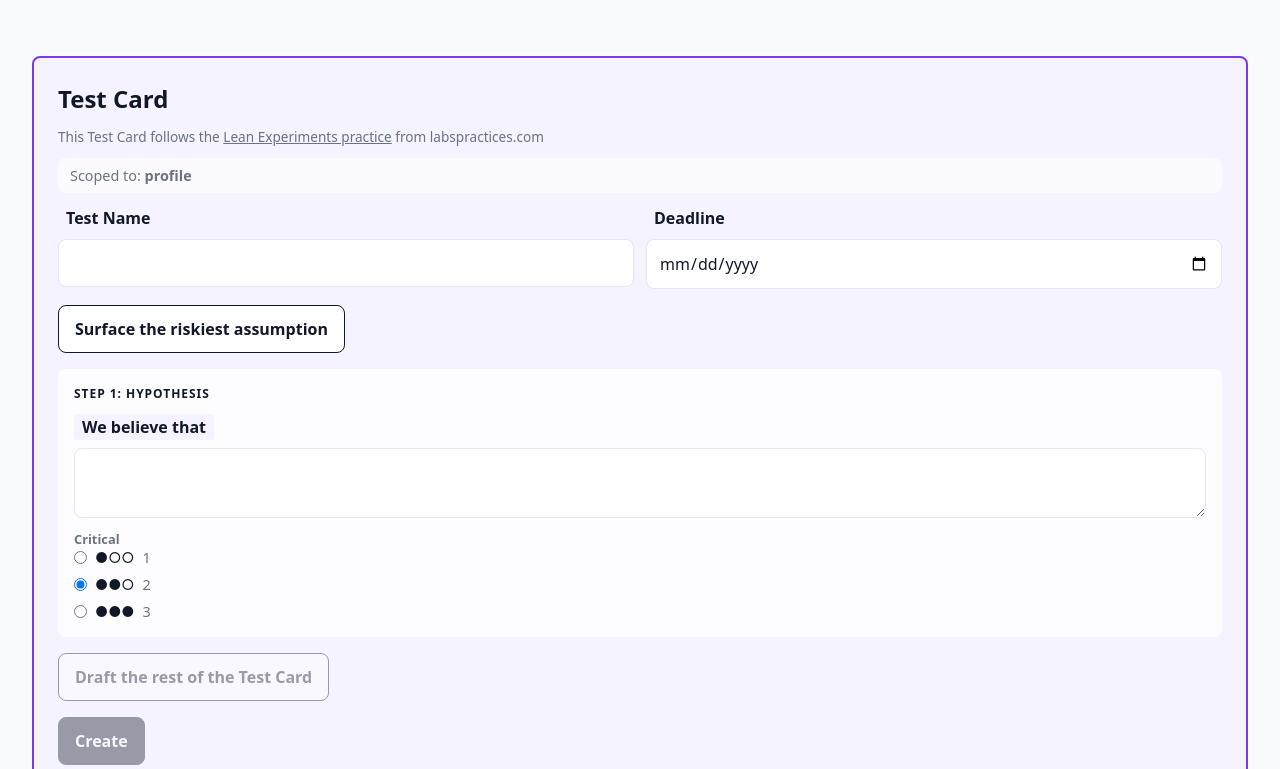
Test: CreateExperimentForm (Test Card) › shows an error and preserves user input when Surface is unavailable, allowing retry
Step 1. Type "manual draft" into the text box labelled "We believe that" → (640, 483), box [74, 448, 1206, 518]
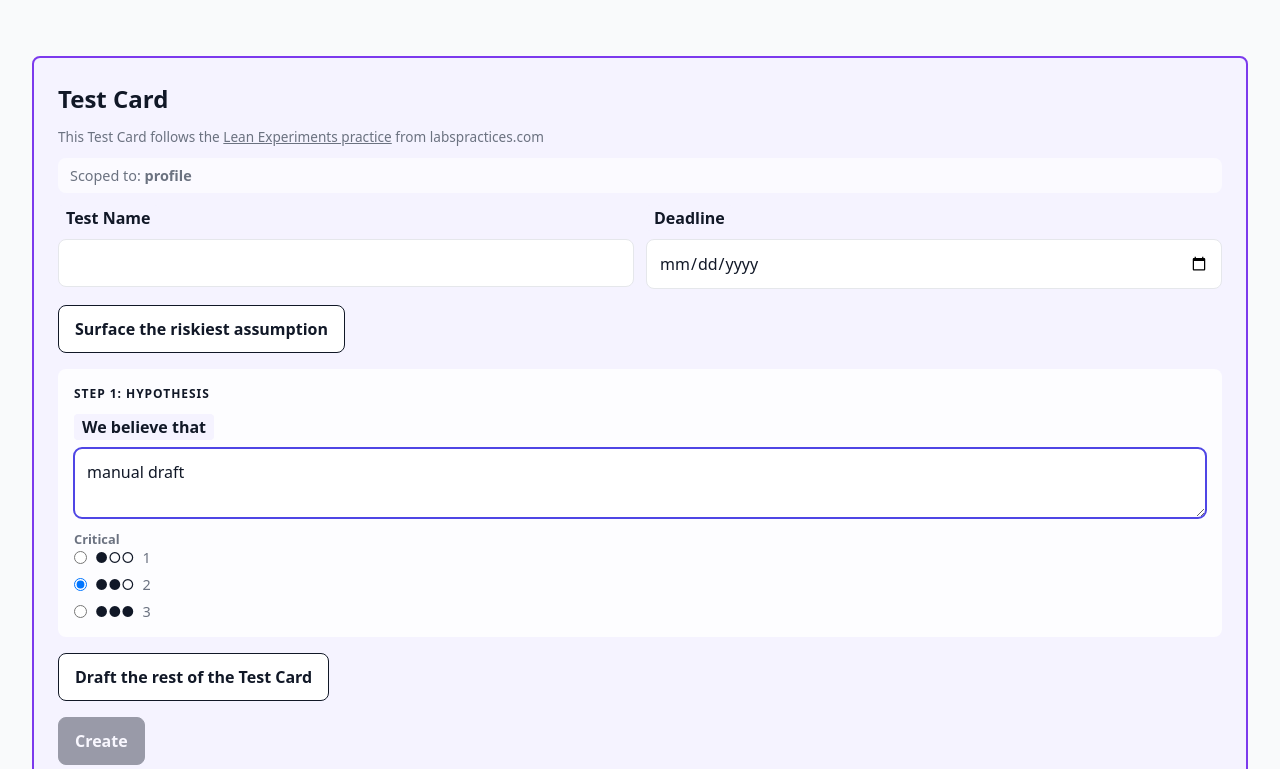
Step 2. Click the button "Surface the riskiest assumption" → (201, 329), box [58, 305, 345, 353]
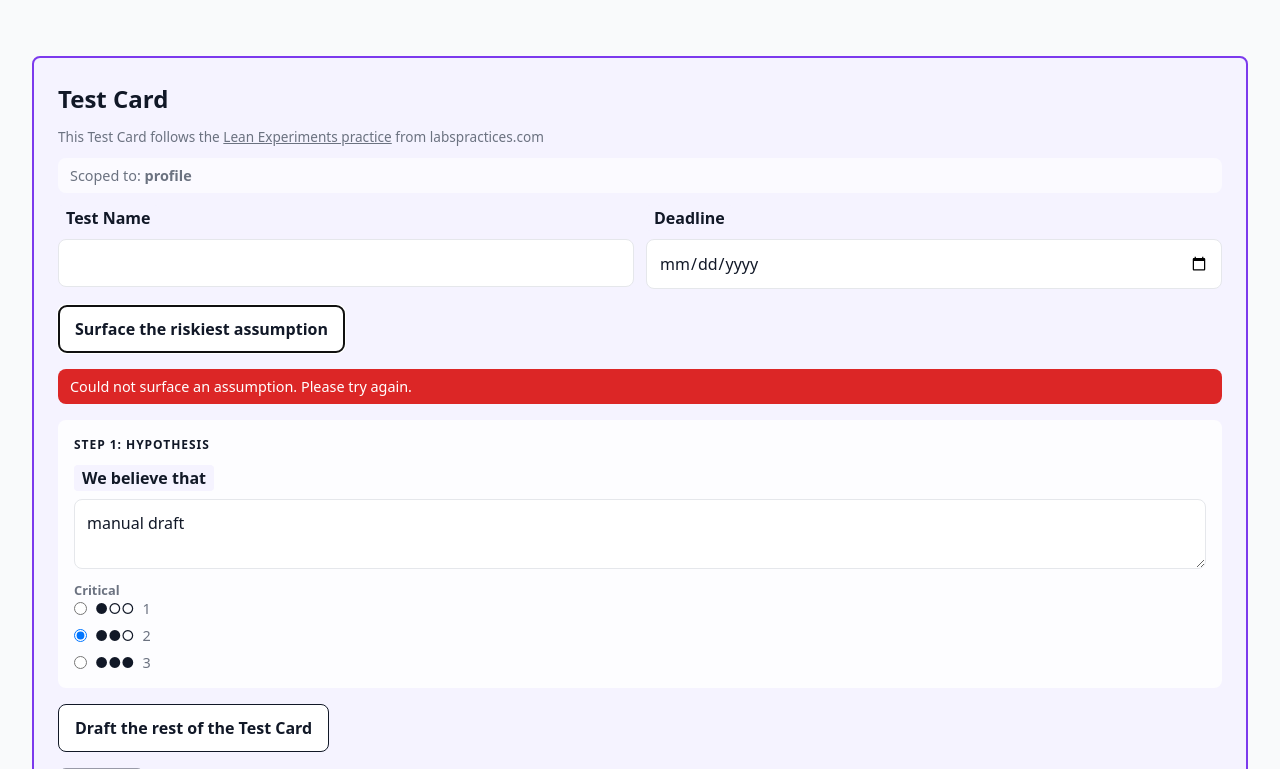
Result: the message shows "Could not surface" at [70, 377, 412, 396]
Step 3. Click the button "Surface the riskiest assumption" → (201, 329), box [58, 305, 345, 353]
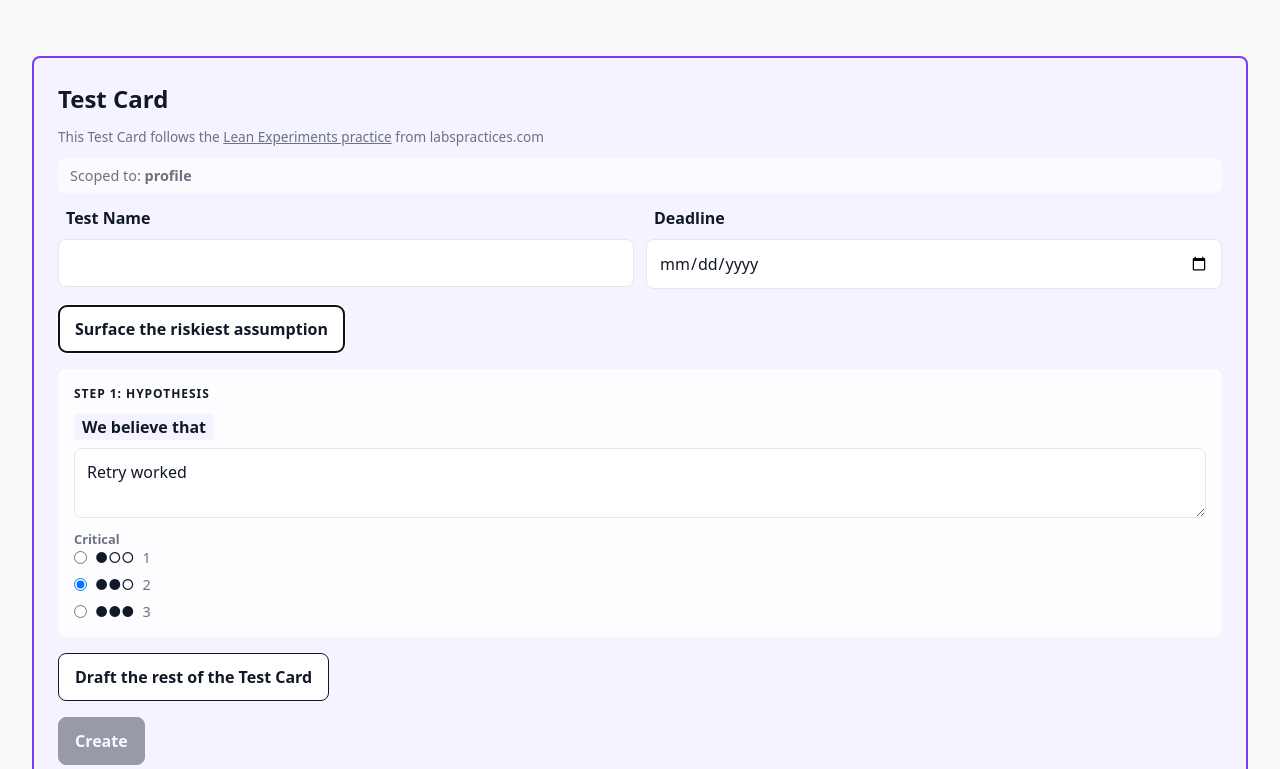
Result: the text box labelled "We believe that" holds "Retry worked" at [74, 448, 1206, 518]
